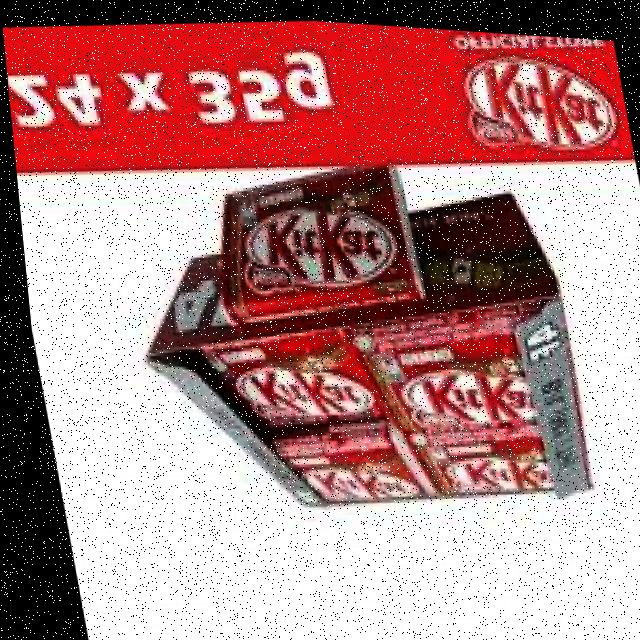kitkat: (193, 145, 429, 332), (358, 287, 550, 434), (205, 300, 378, 446), (400, 405, 578, 500), (274, 414, 426, 508)
